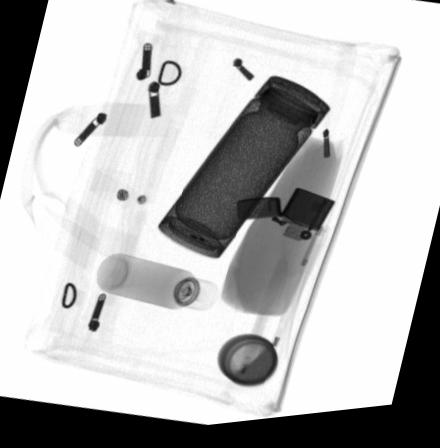Lighter: (237, 192, 336, 248)
Sprayer: (96, 254, 218, 316)
